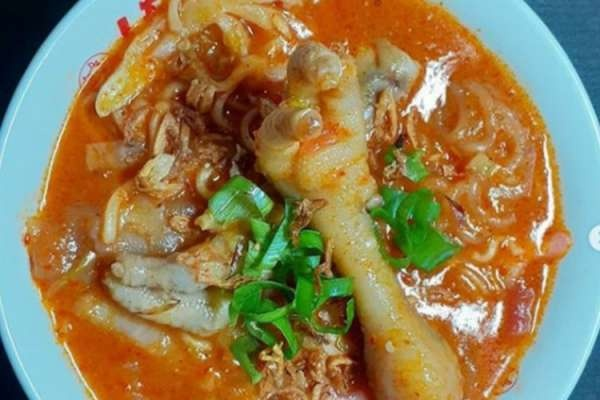seblak: (29, 1, 574, 400)
